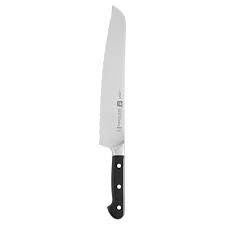knife: (97, 4, 127, 220)
